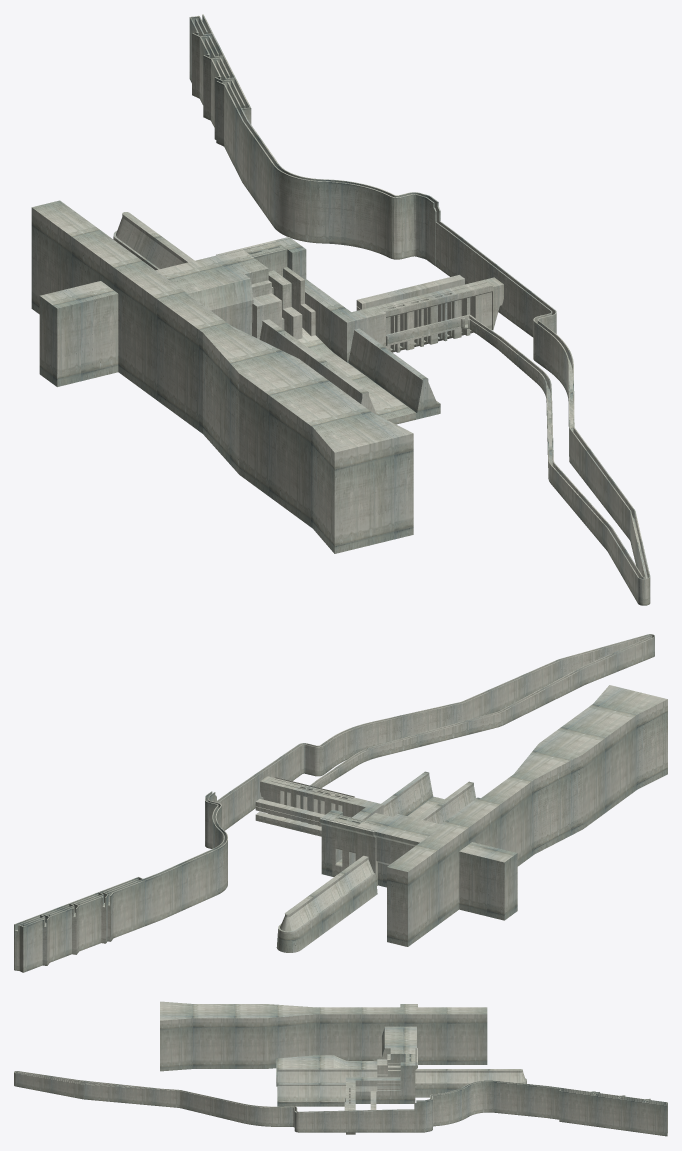
Rendered from huangjinxia_2.obj.
3 renders of one model, top to bottom at view 1: azimuth 30°, elevation 25°; view 2: azimuth 150°, elevation 25°; view 3: azimuth 270°, elevation 25°, orthographic. The views are drawn at different scales.
Visible parts, largest first — view 1: Box024, DB_yudao, DB_DB008, DB_DB007, Box002, DB_DB009, Line004, CF_CF_02_polySurface10997; view 2: DB_yudao, Box024, DB_DB009, Box002, DB_DB008, DB_DB007, Line004, CF_CF_02_polySurface10995, CF_CF_02_polySurface10997; view 3: Box024, DB_yudao, DB_DB009, DB_DB007, Line004, DB_DB008.
Boxes of the visible parts, x1,y1,x2,y2 form: Box024: [31, 200, 413, 553]; DB_yudao: [189, 14, 650, 605]; DB_DB008: [241, 240, 503, 424]; DB_DB007: [275, 237, 440, 419]; Box002: [39, 281, 118, 386]; DB_DB009: [113, 212, 376, 414]; Line004: [156, 255, 253, 335]; CF_CF_02_polySurface10997: [356, 275, 464, 309]; DB_yudao: [14, 634, 654, 972]; Box024: [387, 685, 667, 946]; DB_DB009: [276, 781, 476, 952]; Box002: [459, 842, 517, 920]; DB_DB008: [260, 776, 444, 876]; DB_DB007: [319, 771, 433, 876]; Line004: [374, 797, 480, 887]; CF_CF_02_polySurface10995: [255, 811, 321, 836]; CF_CF_02_polySurface10997: [255, 799, 324, 821]; Box024: [160, 1001, 487, 1071]; DB_yudao: [14, 1071, 667, 1136]; DB_DB009: [277, 1048, 526, 1097]; DB_DB007: [277, 1062, 417, 1106]; Line004: [276, 1026, 416, 1086]; DB_DB008: [346, 1054, 417, 1134].
Size of the model in its own units: 2568 by 656 by 7039.
